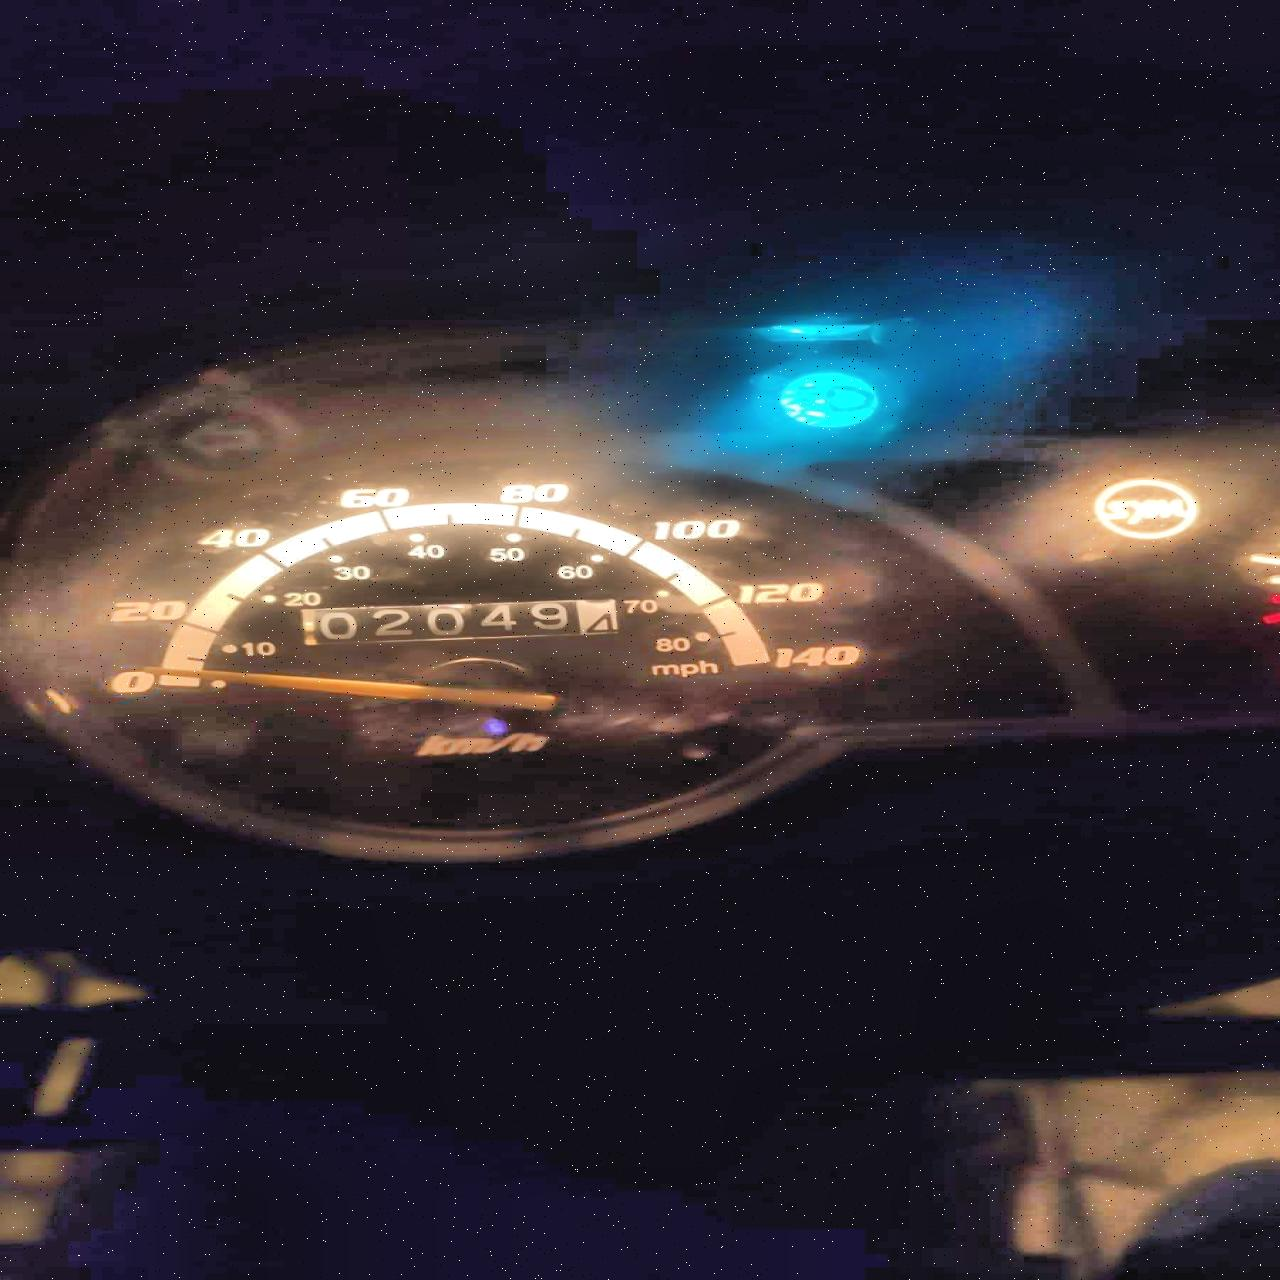0: (313, 611, 358, 641), (424, 610, 468, 636), (301, 591, 322, 608)
2: (366, 606, 411, 639)
4: (478, 599, 518, 633), (580, 610, 620, 639)
7: (620, 598, 639, 613)
9: (525, 601, 570, 632)
odometer: (293, 593, 636, 652)
